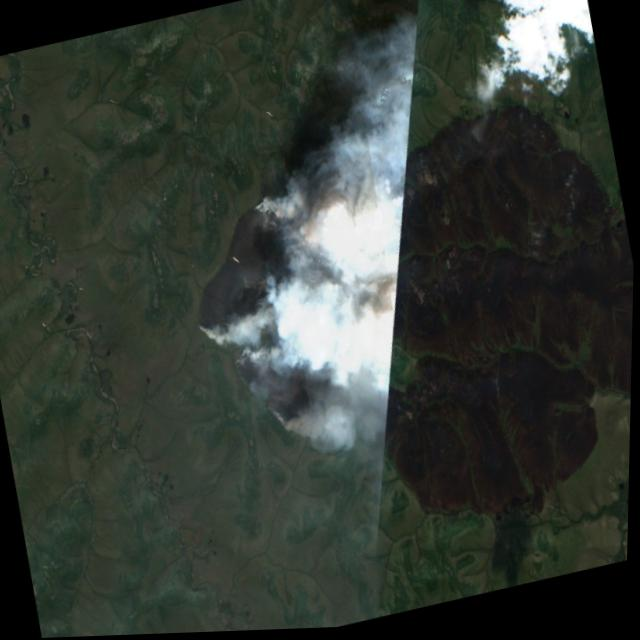fire: (176, 178, 384, 462)
